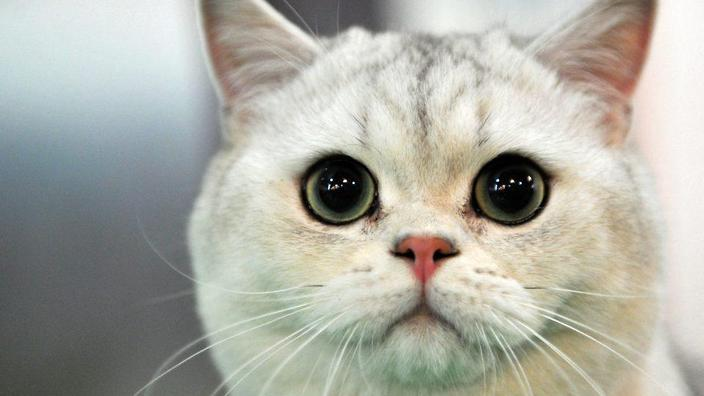cat: (140, 1, 704, 396)
